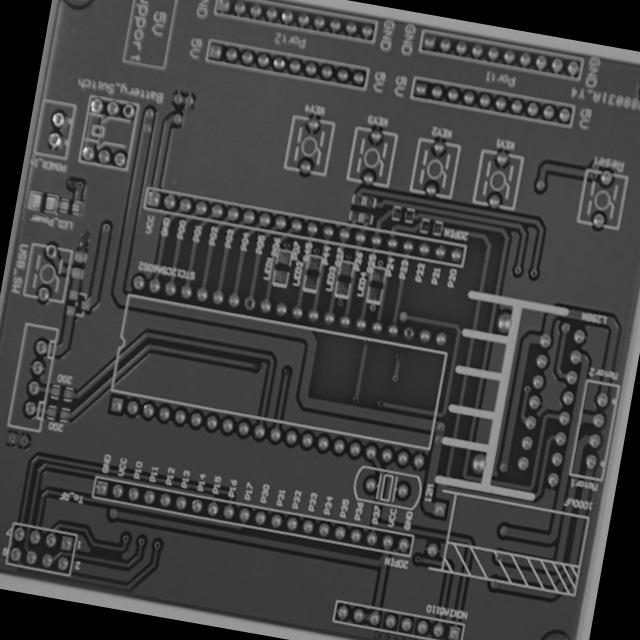missing_hole: (120, 101, 138, 122), (398, 322, 416, 342), (42, 241, 58, 261), (241, 294, 258, 312)
